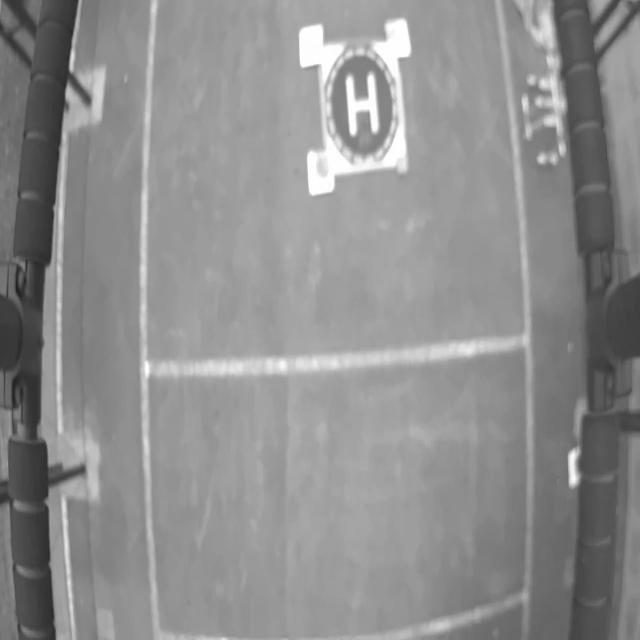Helipad: (345, 72, 380, 137)
